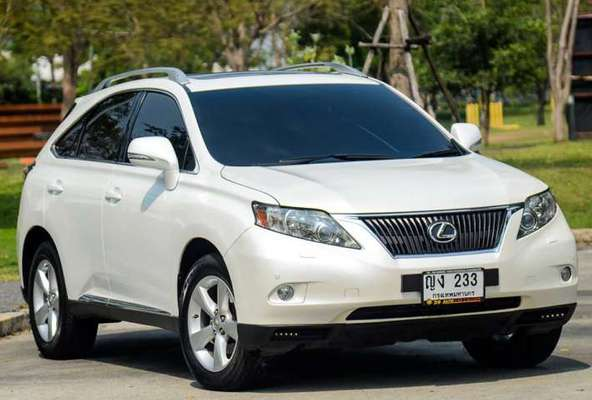pickup: (17, 65, 580, 389)
